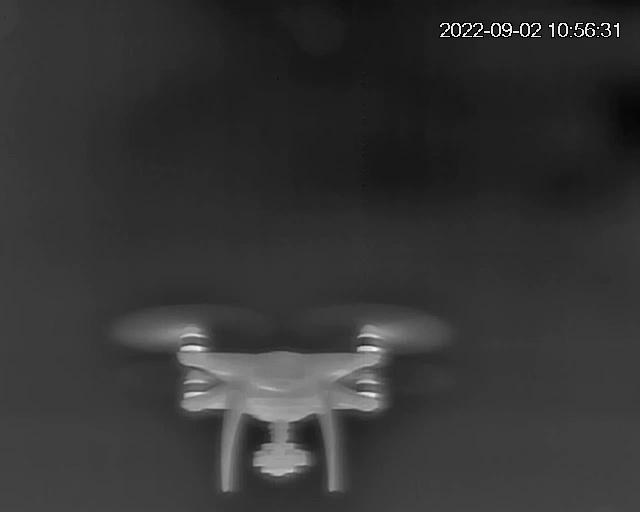DJI-Phantom: (116, 302, 454, 493)
